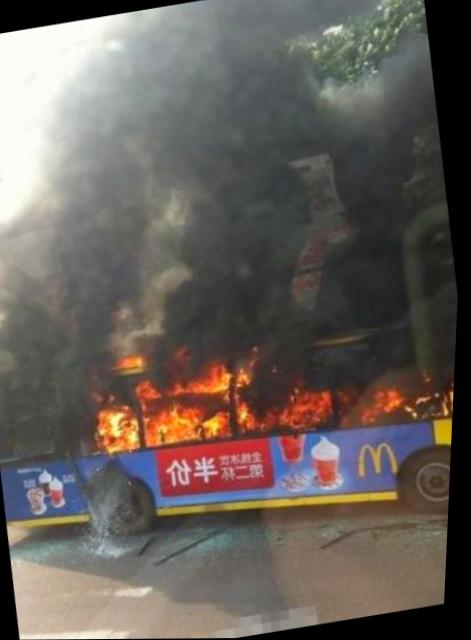fire: (78, 299, 459, 463)
